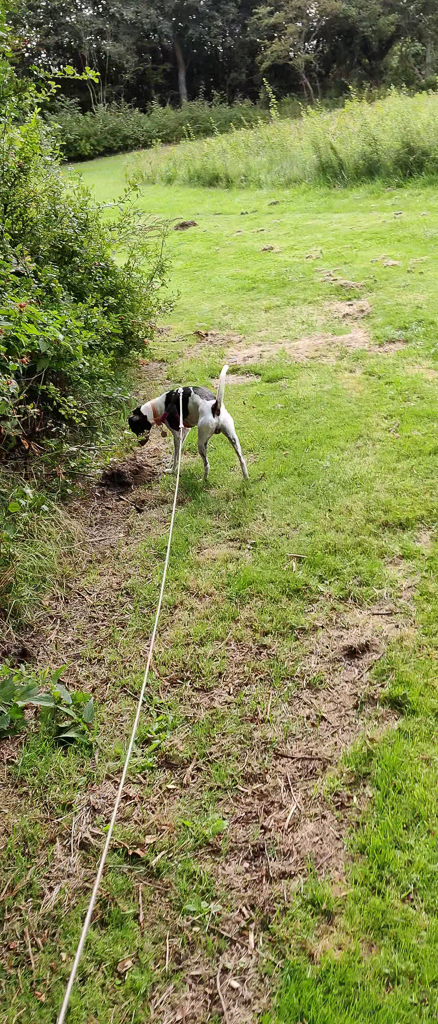Dog: (121, 355, 257, 492)
